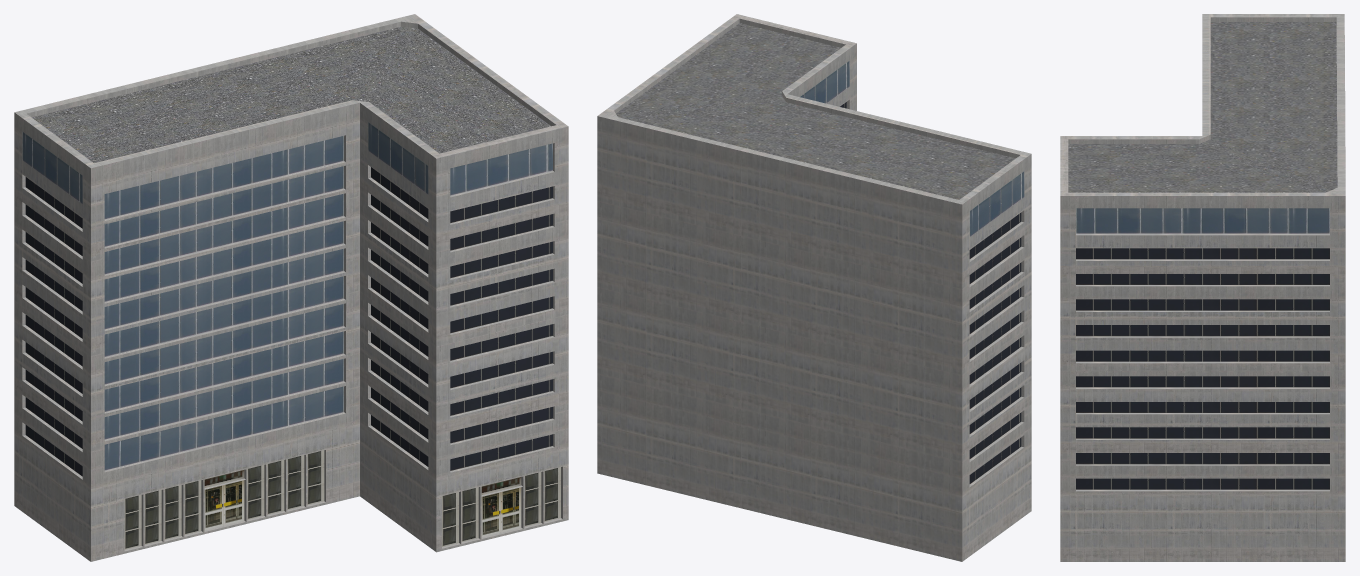
File: building2.glb
3 renders of one model, left to right at view 1: azimuth 30°, elevation 25°; view 2: azimuth 150°, elevation 25°; view 3: azimuth 270°, elevation 25°, orthographic. The views are drawn at different scales.
Visible parts, largest first — view 1: Build10_obj.001; view 2: Build10_obj.001; view 3: Build10_obj.001.
Boxes of the visible parts, x1,y1,x2,y2 form: Build10_obj.001: (14, 14, 568, 561); Build10_obj.001: (597, 14, 1031, 561); Build10_obj.001: (1060, 14, 1345, 561).
Bounding box in the file's own units: 368 × 345 × 244.
1 material, 1 textured.
